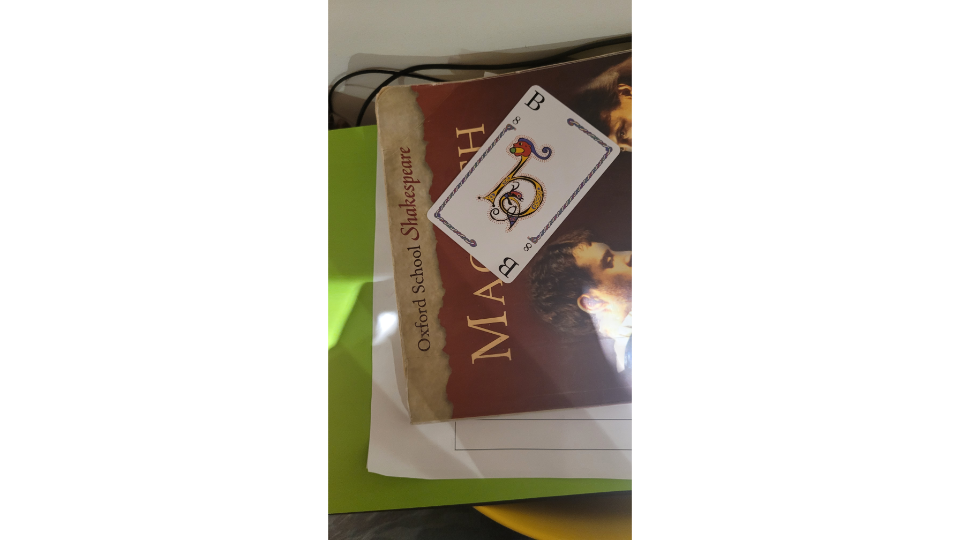B: (423, 80, 623, 287)
